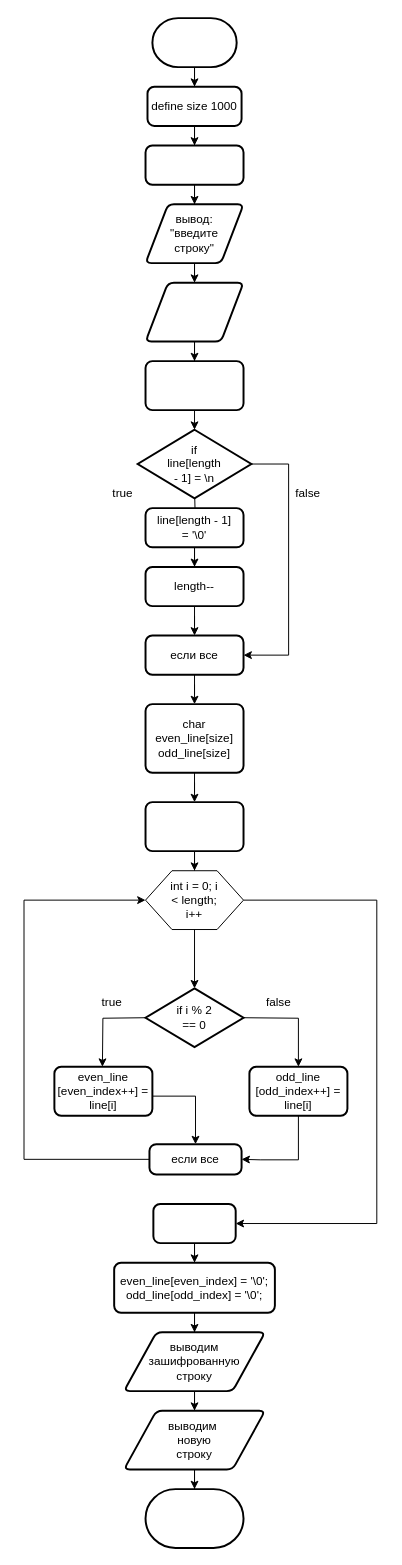
The diagram is 402 pixels wide and 1565 high, and some of its shapes have lost their labels. Each missing label, with the box of its shape:
char line[size]: (144, 144, 244, 185)
int even_index = 0; odd_index = 0;: (144, 801, 244, 852)
int length = strlen(line): (144, 360, 244, 411)
для все: (152, 1202, 236, 1244)
конец программы: (144, 1488, 244, 1548)
начало программы: (151, 17, 237, 68)
получаем строку: (144, 281, 244, 342)
